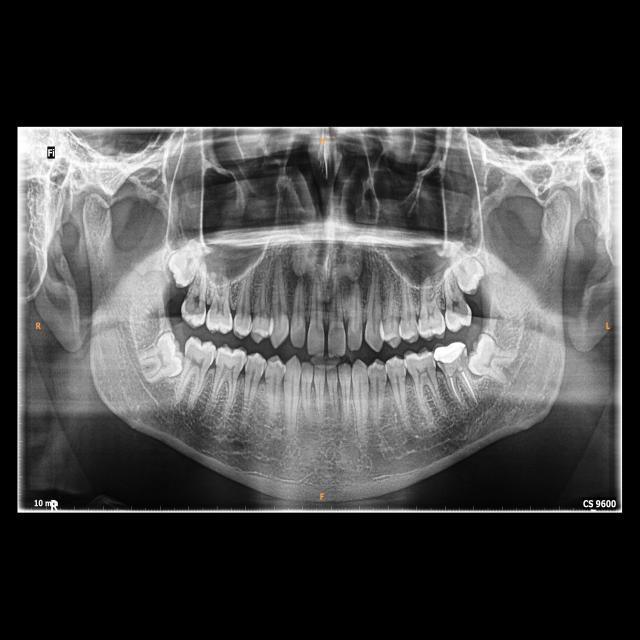dentin-curugu: (455, 301, 471, 317)
dolgu: (431, 342, 468, 362)
kanal-tedavisi: (447, 372, 480, 409)
